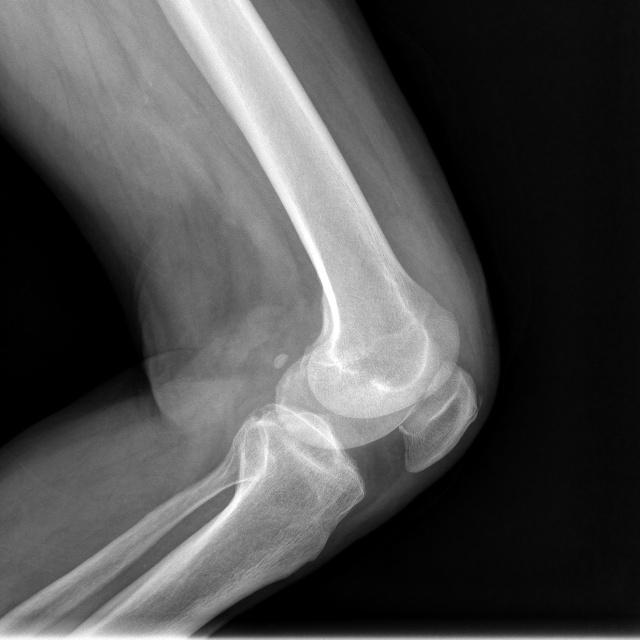Knee: (233, 298, 478, 497)
